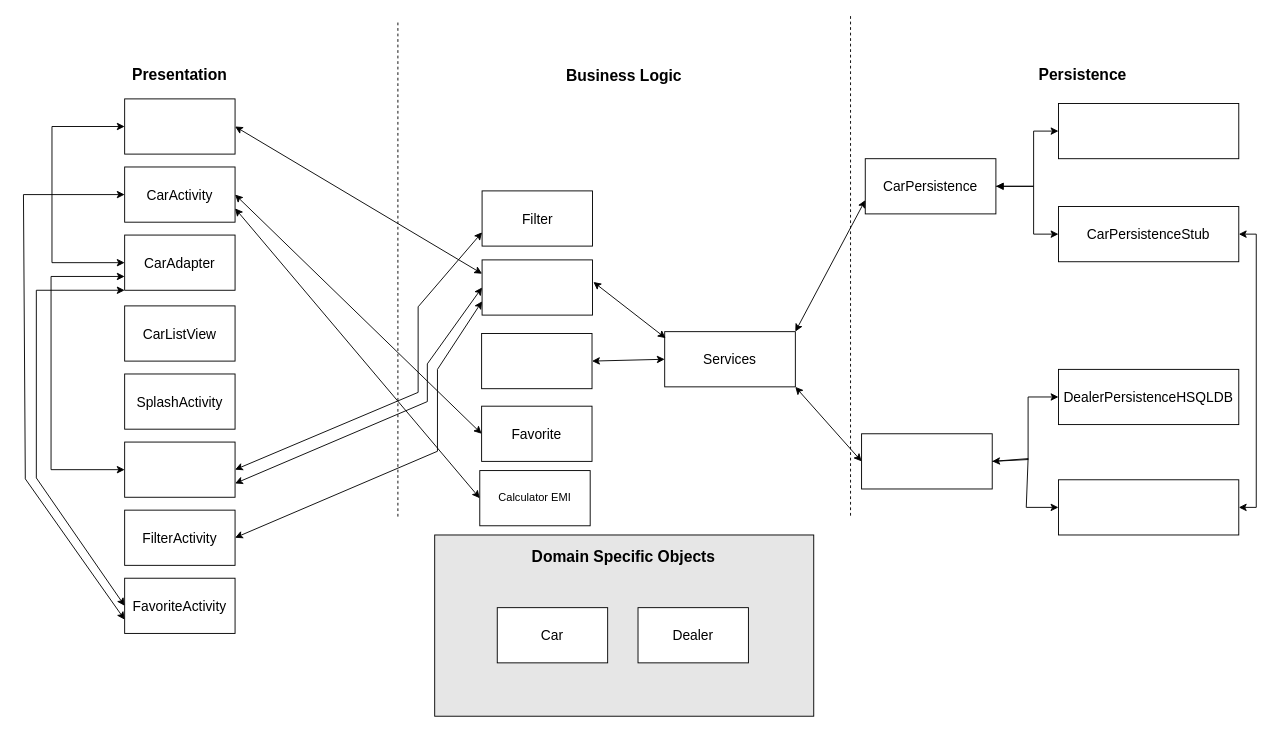
The diagram is 1281 pixels wide and 732 high, and some of its shapes have lost their labels. Here are the shapes that lost their labels. From the top down, the centre of each, then its label:
(x=179, y=126): MainActivity
(x=1148, y=131): CarPersistenceHSQLDB
(x=536, y=287): CarHandler
(x=536, y=361): DealerHandler
(x=179, y=469): showCarActivity
(x=926, y=461): DealerPersistence
(x=1148, y=507): DealerPersistenceStub
